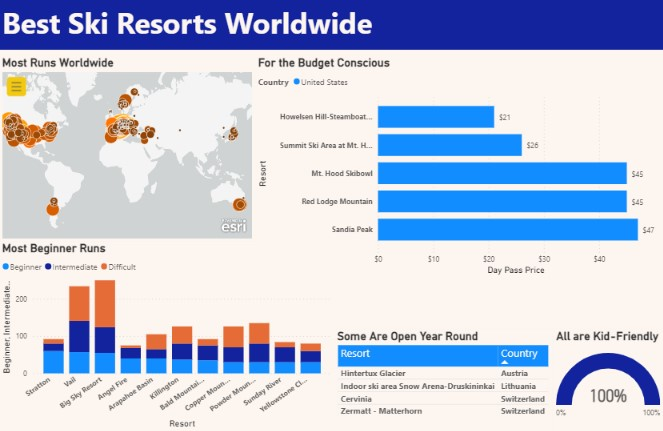

The page's visual inventory and layout, read from the dashboard file:
{"tool":"powerbi","page":{"name":"Ski Resorts Dashboard","canvas":[1280,720],"ordinal":0},"visuals":[{"type":"tableEx","title":"Some Are Open Year Round","fields":{"Values":["Min(resorts.Resort)","resorts.Country"]},"box":[558.3,550,365,170],"z":0},{"type":"clusteredBarChart","title":"For the Budget Conscious","fields":{"Y":["Sum(resorts.Price)"],"Category":["resorts.Resort"],"Series":["resorts.Country"]},"box":[426.7,95,680,370],"z":1000},{"type":"textbox","box":[0,0,1280,83.8],"z":2000},{"type":"columnChart","title":"Most Beginner Runs","fields":{"Category":["resorts.Resort"],"Y":["Max(resorts.Beginner slopes)","Max(resorts.Intermediate slopes)","Max(resorts.Difficult slopes)"]},"box":[0,403.3,558.3,316.7],"z":3000},{"type":"esriVisual","title":"Most Runs Worldwide","fields":{"Latitude":["resorts.Latitude"],"Longitude":["resorts.Longitude"],"Size":["Sum(resorts.Total slopes)"],"Color":["Sum(resorts.Total slopes)"]},"box":[0,95,426.7,308.3],"z":4000},{"type":"gauge","title":"All are Kid-Friendly","fields":{"Y":["CountNonNull(Child Friendly Percent.Child friendly)"]},"box":[923.3,550,183.3,170],"z":6000}]}

Visuals, with their boxes on the page's 1280x720 design canvas (x1, y1, x2, y2). These are canvas units, not pixel positions in the 663x431 screenshot, which may show the page scaled, cropped or inside an application window:
"Some Are Open Year Round" tableEx: (558,550,923,720)
"For the Budget Conscious" clusteredBarChart: (427,95,1107,465)
textbox: (0,0,1280,84)
"Most Beginner Runs" columnChart: (0,403,558,720)
"Most Runs Worldwide" esriVisual: (0,95,427,403)
"All are Kid-Friendly" gauge: (923,550,1107,720)
